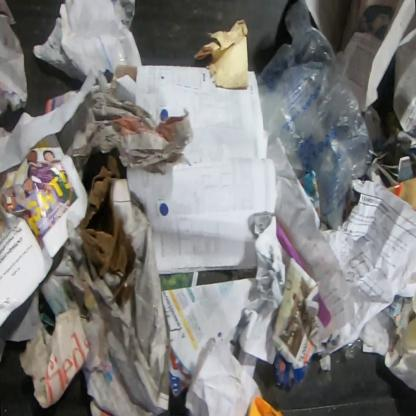cardboard: (77, 144, 136, 310), (383, 135, 415, 247), (273, 351, 313, 388), (396, 130, 416, 170)
soft_plastic: (256, 0, 375, 231)
